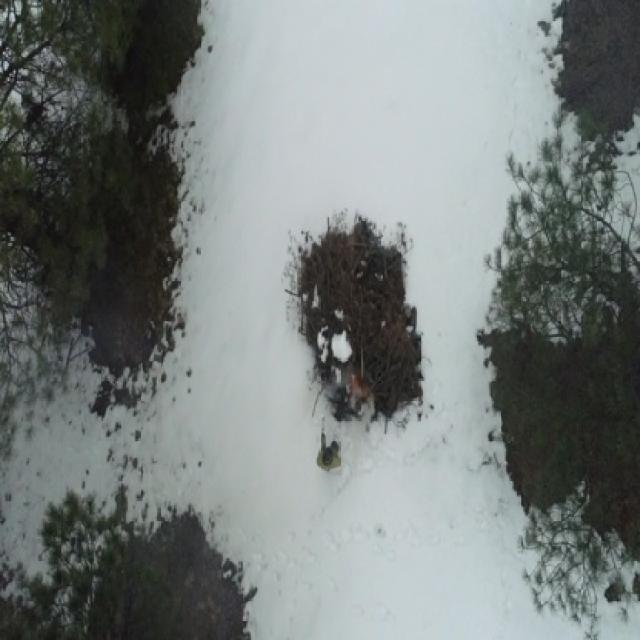Fire: (353, 374, 371, 402)
